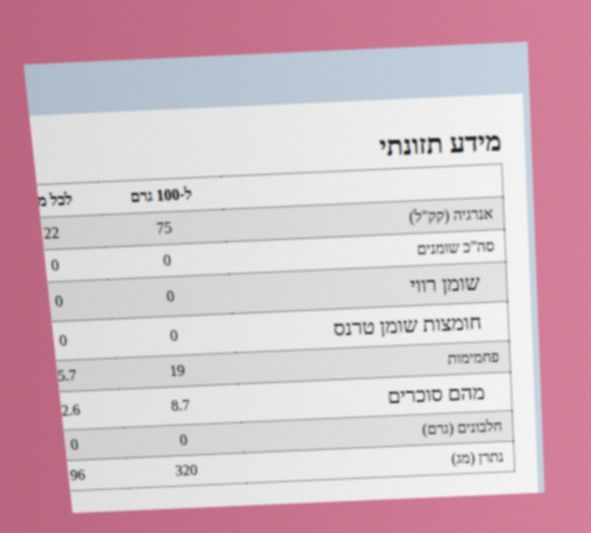carbs: (167, 360, 187, 381)
energy: (154, 217, 175, 239)
fat: (160, 250, 174, 271)
protein: (177, 430, 190, 450)
